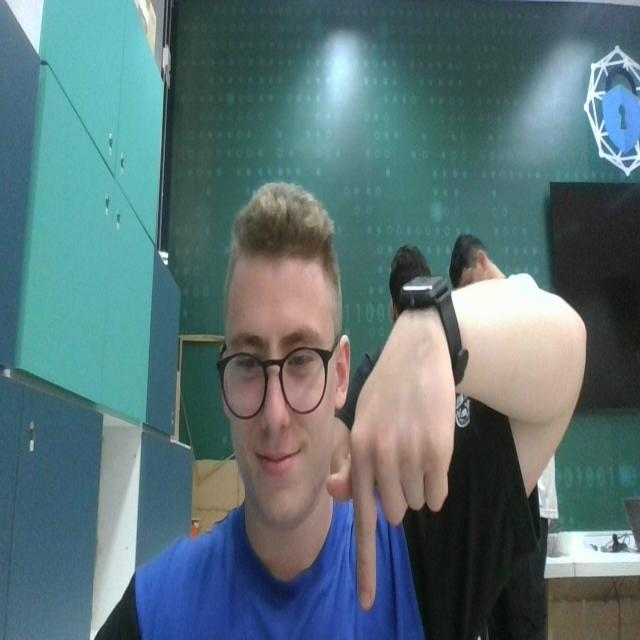Q: (328, 318, 459, 615)
